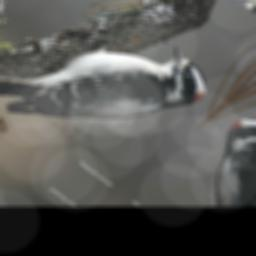Woodpecker: (0, 0, 223, 189)
